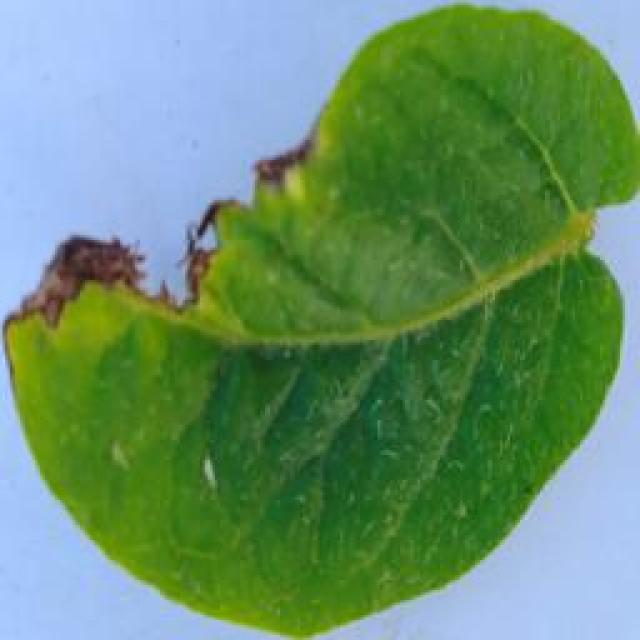Potato_Late_Blight: (9, 4, 640, 627)
